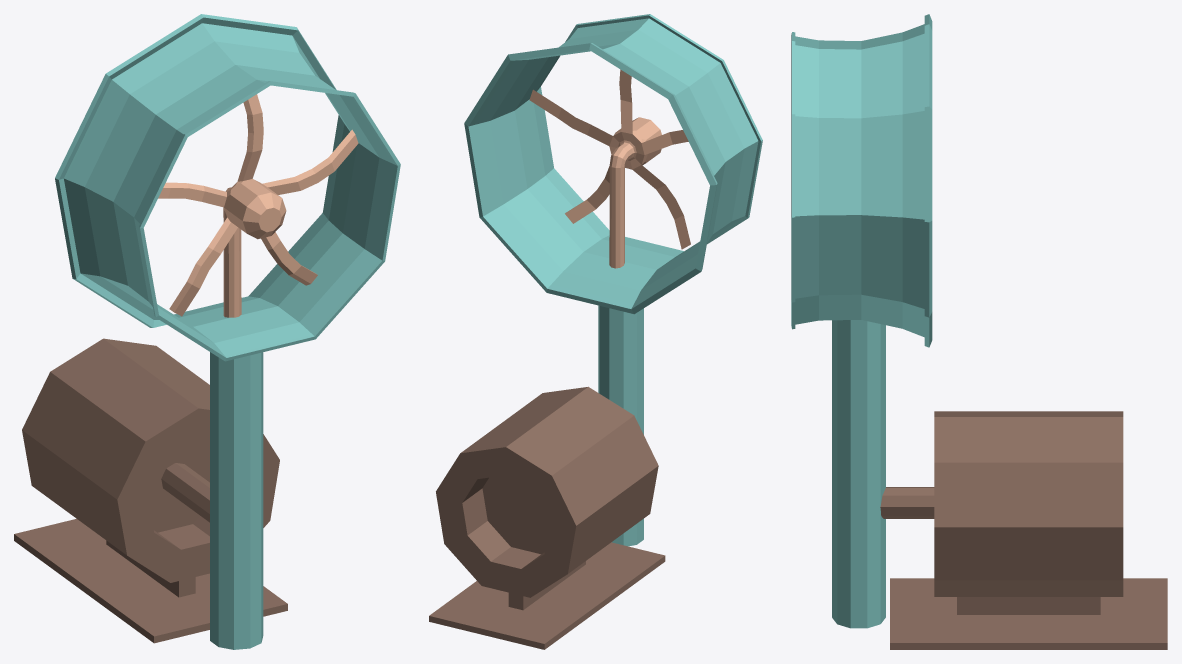
File: generator tile without platform .fbx
3 views of the same model, side by side, from view 1: azimuth 30°, elevation 25°; view 2: azimuth 150°, elevation 25°; view 3: azimuth 270°, elevation 25° (orthographic). The views are drawn at different scales.
Parts seen in each view (by area): view 1: wind turbine level 1; view 2: wind turbine level 1; view 3: wind turbine level 1.
Boxes of the visible parts, x1=… form: wind turbine level 1: x1=14, y1=14, x2=400, y2=649; wind turbine level 1: x1=429, y1=14, x2=762, y2=649; wind turbine level 1: x1=791, y1=14, x2=1167, y2=649.
Bounding box in the file's own units: 99.15 × 194 × 111.
